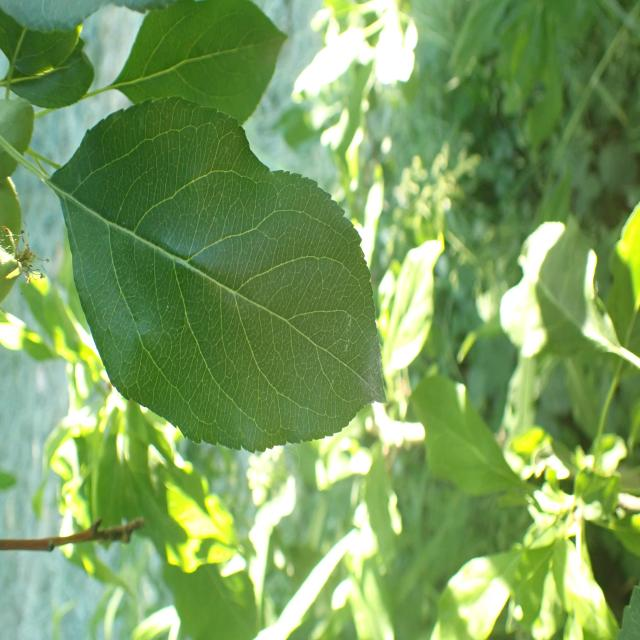healthy: (49, 98, 389, 455), (112, 0, 290, 126), (498, 219, 638, 370), (404, 370, 530, 500)
